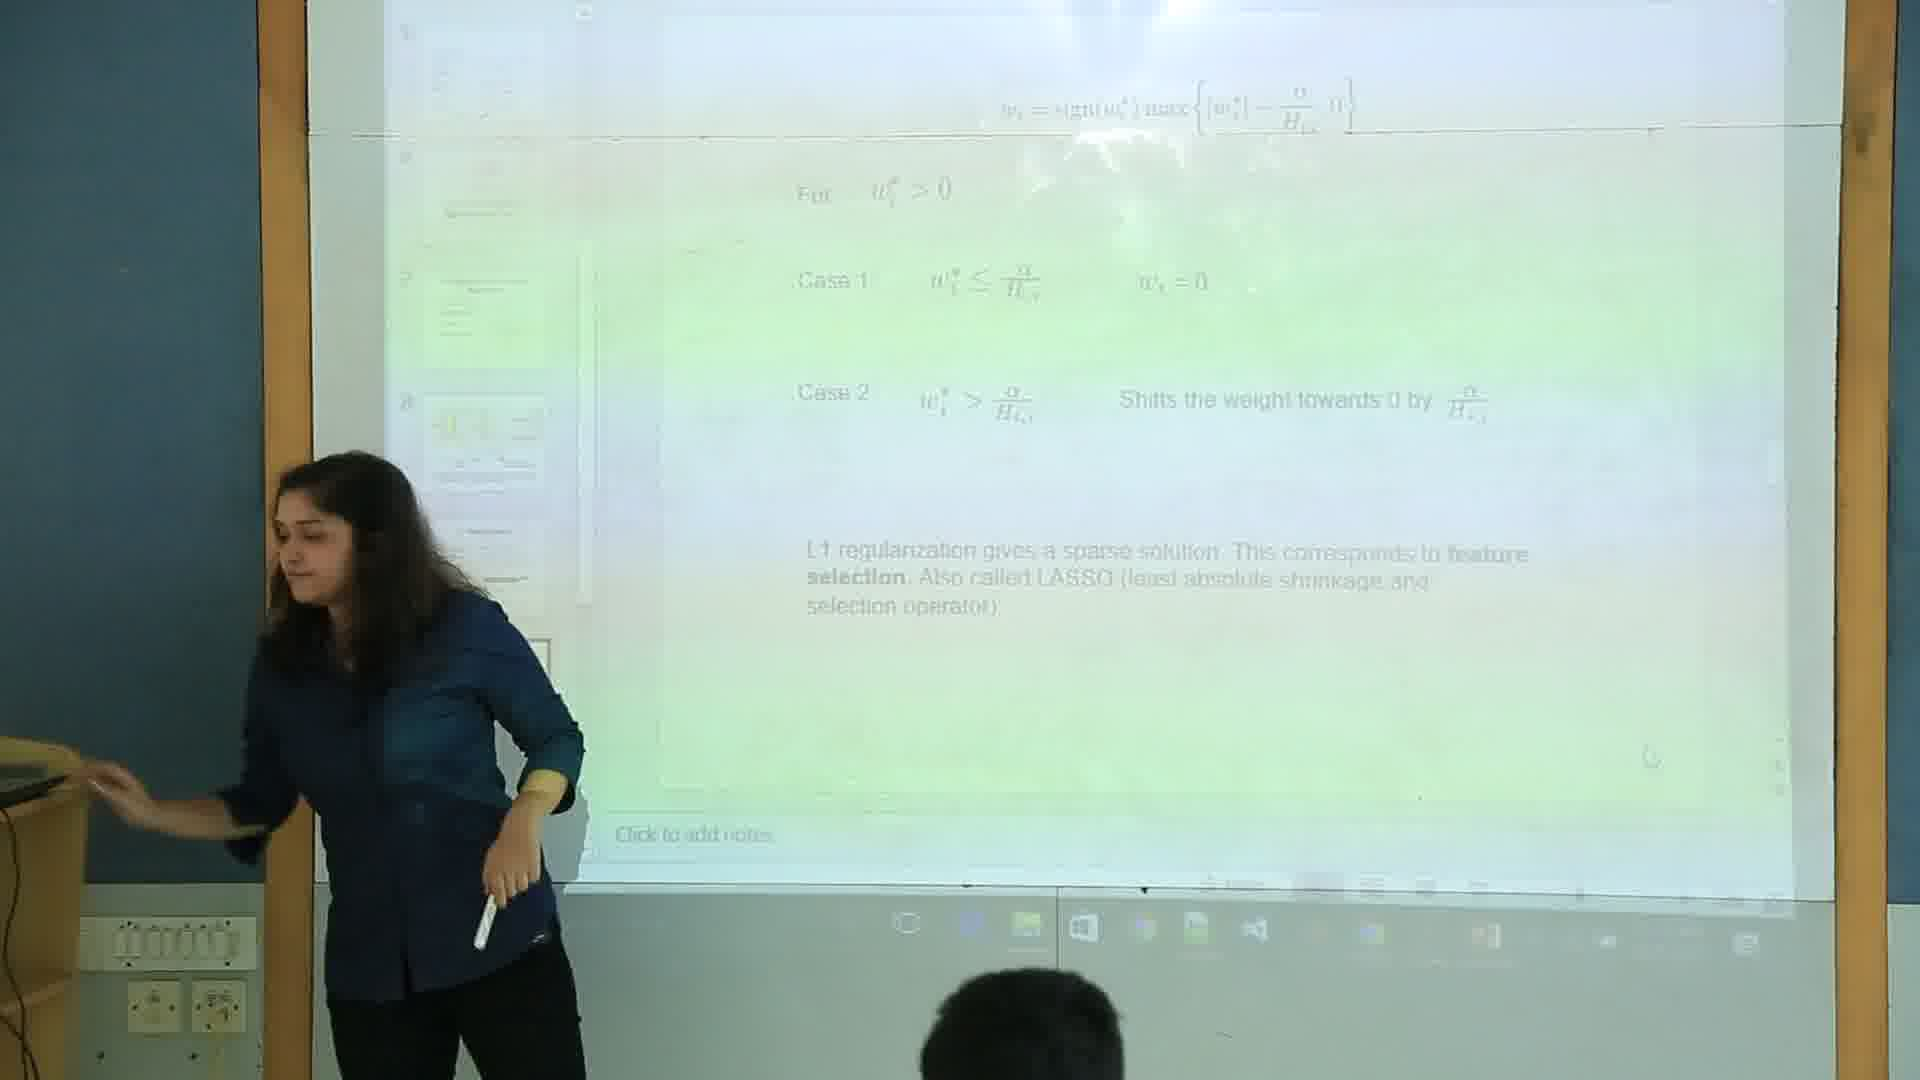eq: (988, 69, 1360, 154), (918, 251, 1060, 314), (909, 376, 1048, 434), (865, 171, 967, 210), (1126, 266, 1221, 299)
